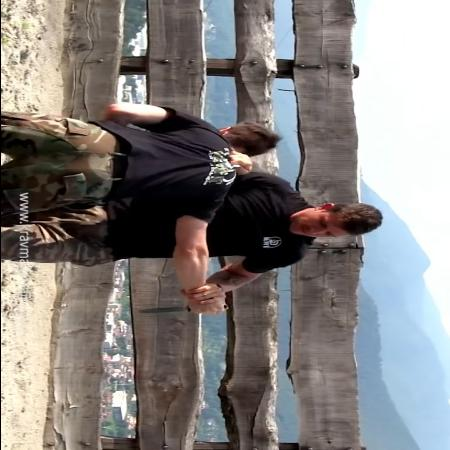long weapon: (132, 300, 233, 318)
